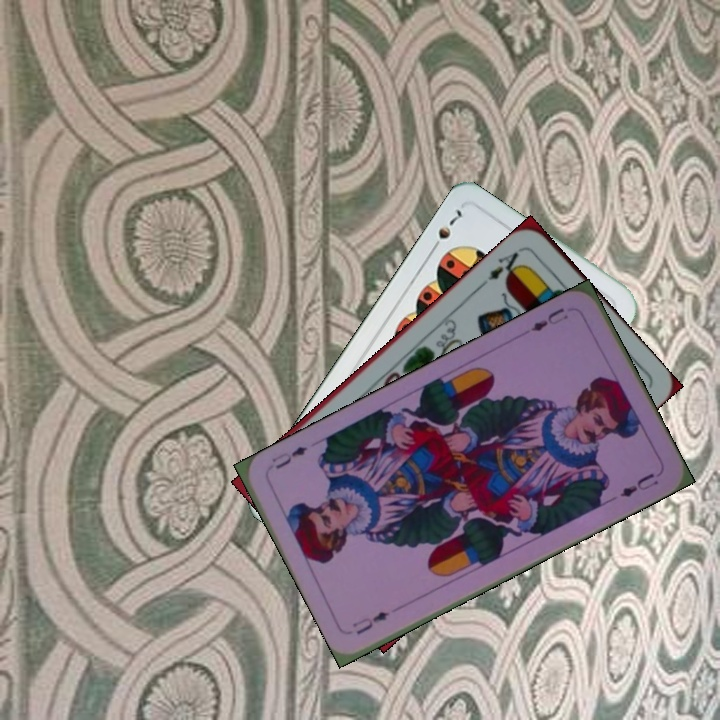EA: (477, 247, 526, 288)
EU: (526, 303, 572, 334), (349, 607, 392, 638)
S7: (426, 205, 465, 256)
